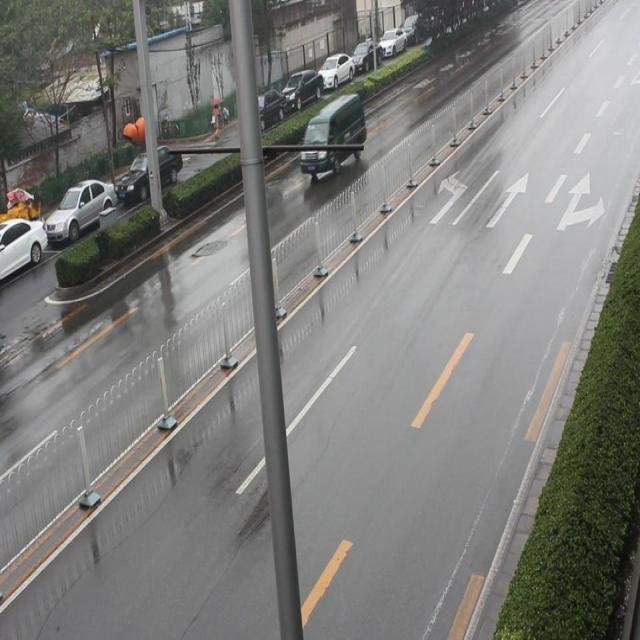truck: (298, 95, 367, 176)
